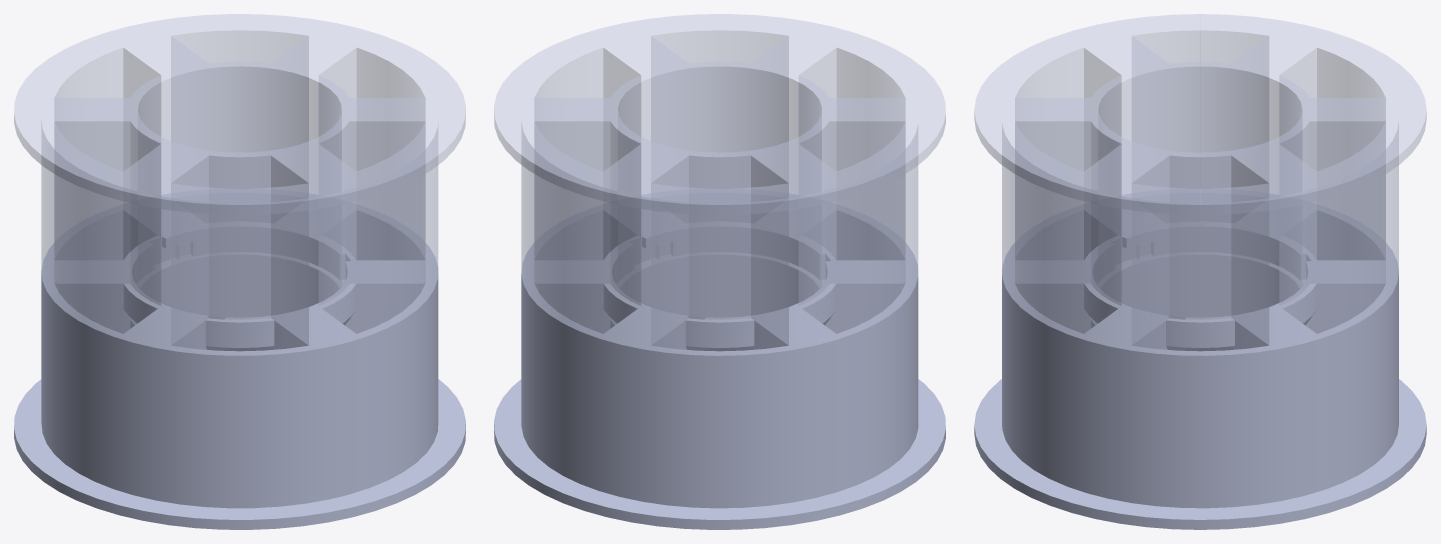
Rendered from filament_wheel.glb.
3 renders of one model, left to right at view 1: azimuth 30°, elevation 25°; view 2: azimuth 150°, elevation 25°; view 3: azimuth 270°, elevation 25°, orthographic.
Visible parts, largest first — view 1: filament wheel m-1, filament wheel f-1; view 2: filament wheel m-1, filament wheel f-1; view 3: filament wheel m-1, filament wheel f-1.
Boxes of the visible parts, <box> form: filament wheel m-1: <box>14,14,465,355</box>; filament wheel f-1: <box>14,188,465,529</box>; filament wheel m-1: <box>494,14,945,355</box>; filament wheel f-1: <box>494,193,945,529</box>; filament wheel m-1: <box>974,14,1426,355</box>; filament wheel f-1: <box>974,188,1426,529</box>.
Bounding box in the file's own units: 0.082 × 0.065 × 0.082.
